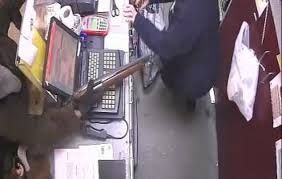gun: (54, 51, 158, 132)
